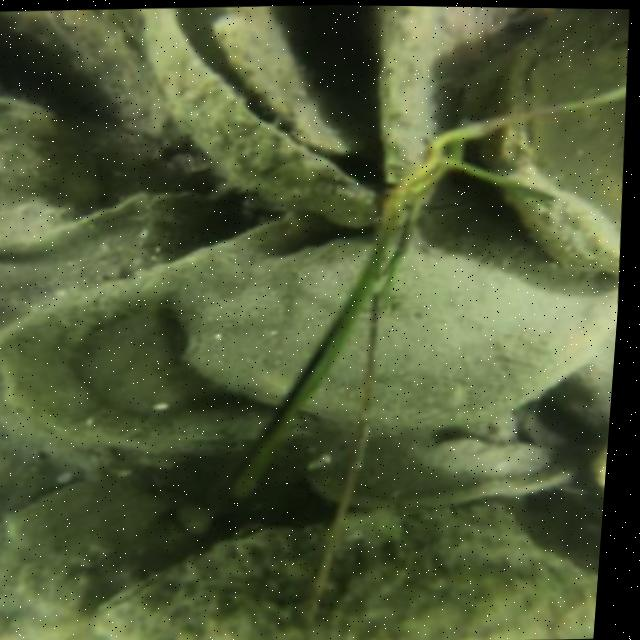Oyster-Closed: (474, 8, 627, 283), (428, 430, 545, 475)
Oyster-Indeterminate: (0, 204, 362, 451), (174, 230, 616, 431), (322, 510, 598, 640), (0, 10, 187, 148), (97, 527, 325, 640), (213, 9, 366, 160), (0, 98, 111, 240)
Oyster-Open: (145, 5, 444, 228)
